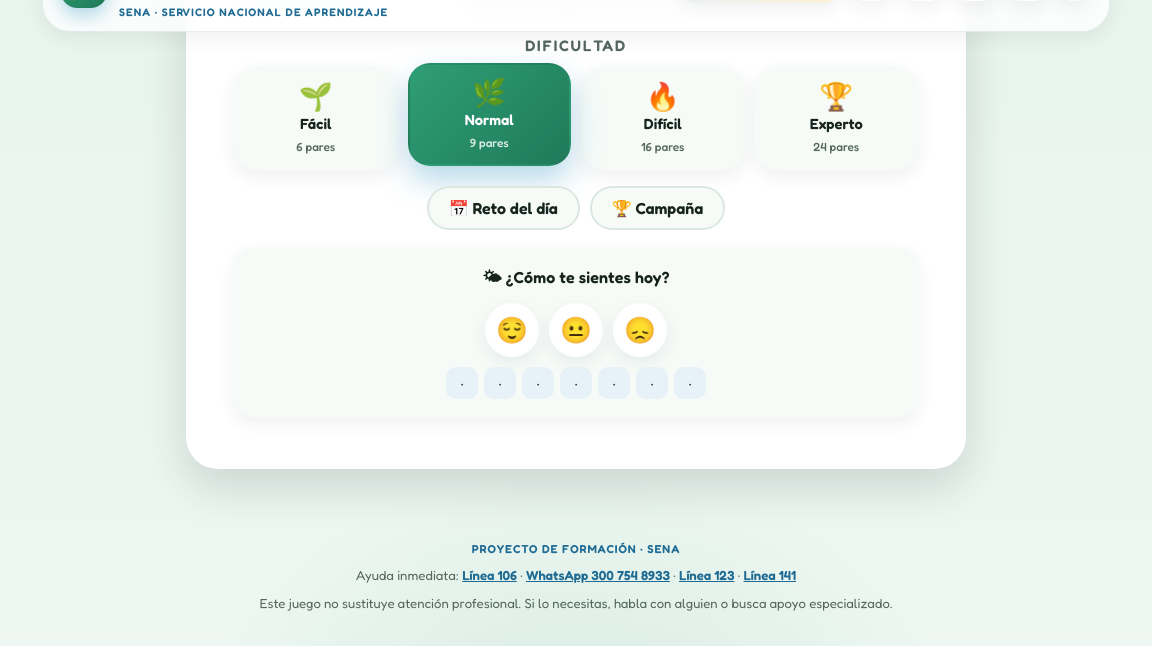
Scenario: check-in diario › registra el ánimo del día y lo cuenta en estadísticas
This screenshot has width=1152, height=646.
(page scrolled)
Step 1. Click the button named "Me siento bien" → click(512, 330), box x1=485 y1=303 x2=539 y2=357
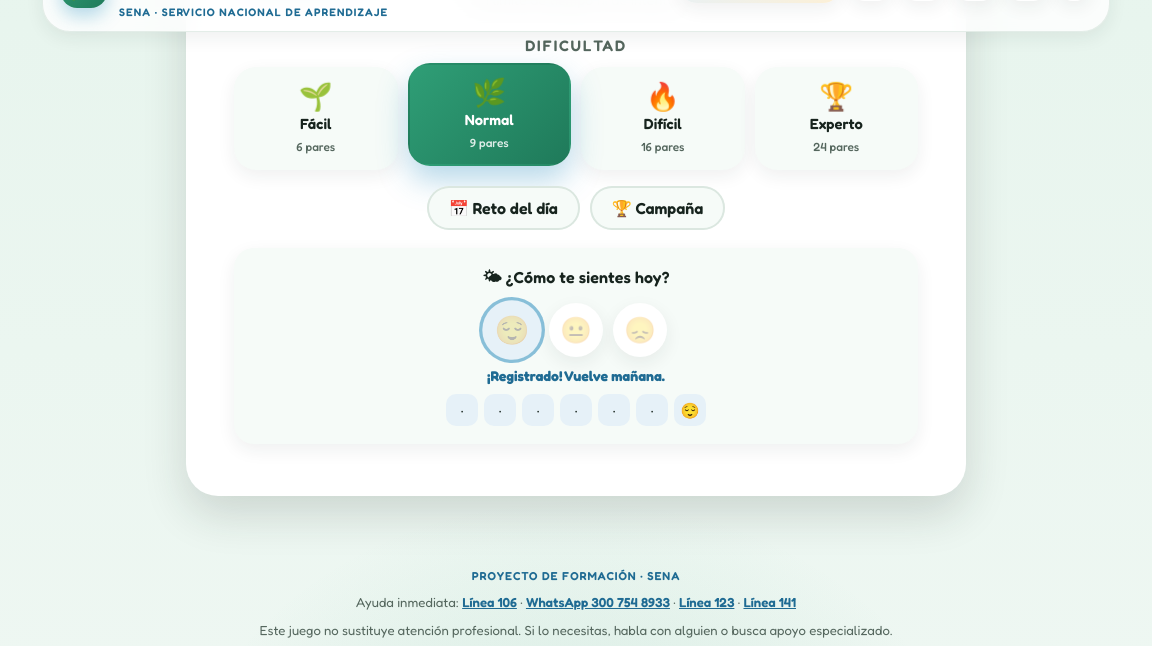
Result: the text "¡Registrado! Vuelve mañana." is shown at x1=487 y1=367 x2=665 y2=384
